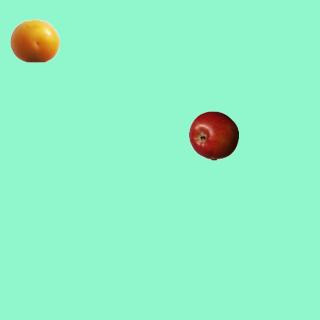Apple Braeburn: (188, 110, 238, 160)
Cherry Wax Yellow: (9, 15, 59, 65)
